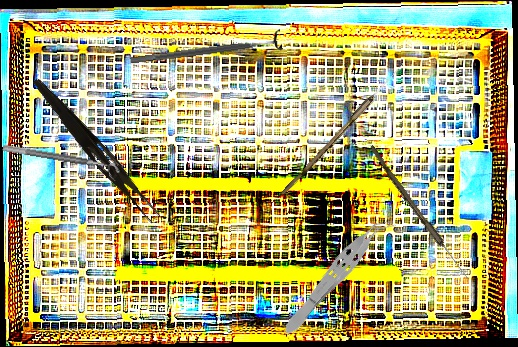Dressing Forceps: (25, 75, 166, 225)
Fixation Ring: (129, 27, 283, 73), (0, 143, 122, 182)
Surgical Spoon: (281, 60, 406, 198), (366, 145, 472, 281)
Tissue Forceps: (276, 208, 398, 342)
